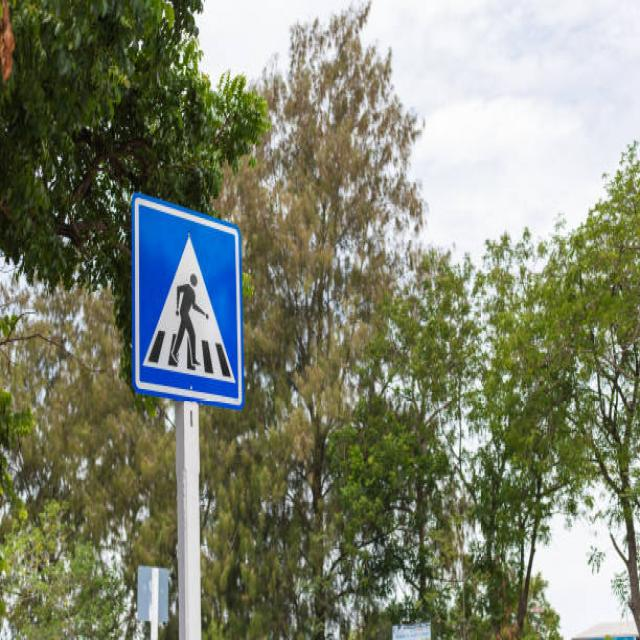crosswalk: (125, 184, 247, 416)
